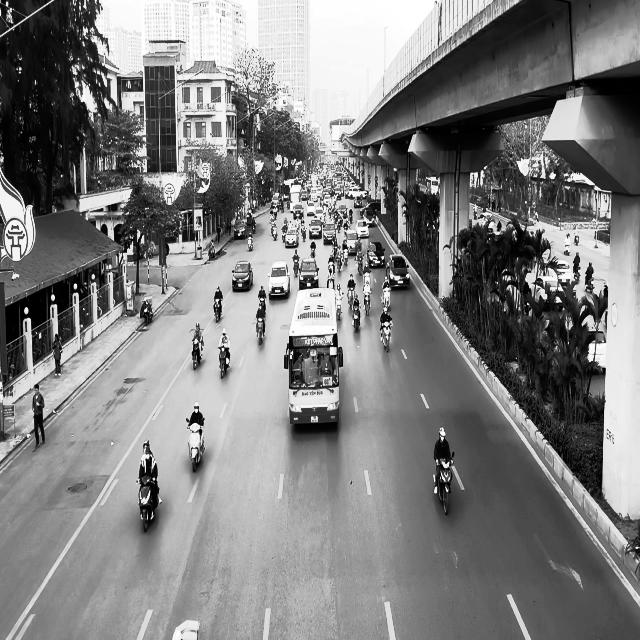bus: (284, 287, 344, 426)
car: (386, 254, 410, 289), (268, 260, 290, 298), (299, 257, 319, 289), (232, 260, 252, 291), (553, 259, 573, 286), (367, 241, 385, 267), (343, 230, 359, 255), (284, 227, 299, 247), (323, 222, 336, 244), (233, 219, 247, 239), (355, 218, 369, 238), (309, 218, 322, 238)
motorbike: (136, 475, 161, 532), (434, 453, 454, 514), (186, 417, 205, 472), (191, 335, 204, 370), (380, 318, 392, 352), (218, 345, 230, 378), (142, 298, 153, 324), (256, 315, 265, 345), (352, 302, 361, 331), (382, 286, 391, 311), (336, 292, 344, 320), (213, 298, 222, 322), (363, 290, 371, 316), (347, 286, 355, 308), (585, 273, 594, 292), (247, 234, 253, 251)
